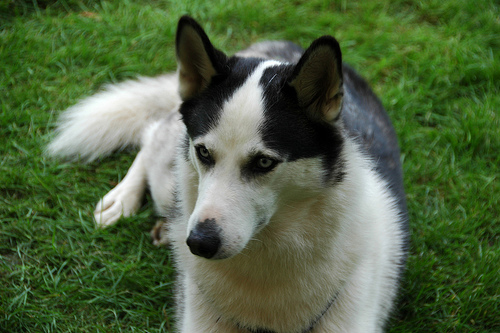dog: (40, 12, 410, 332)
